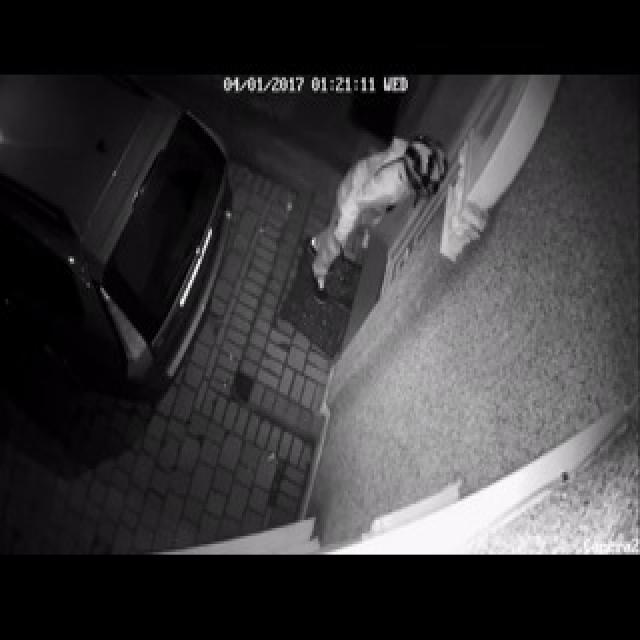thief: (346, 128, 460, 327)
